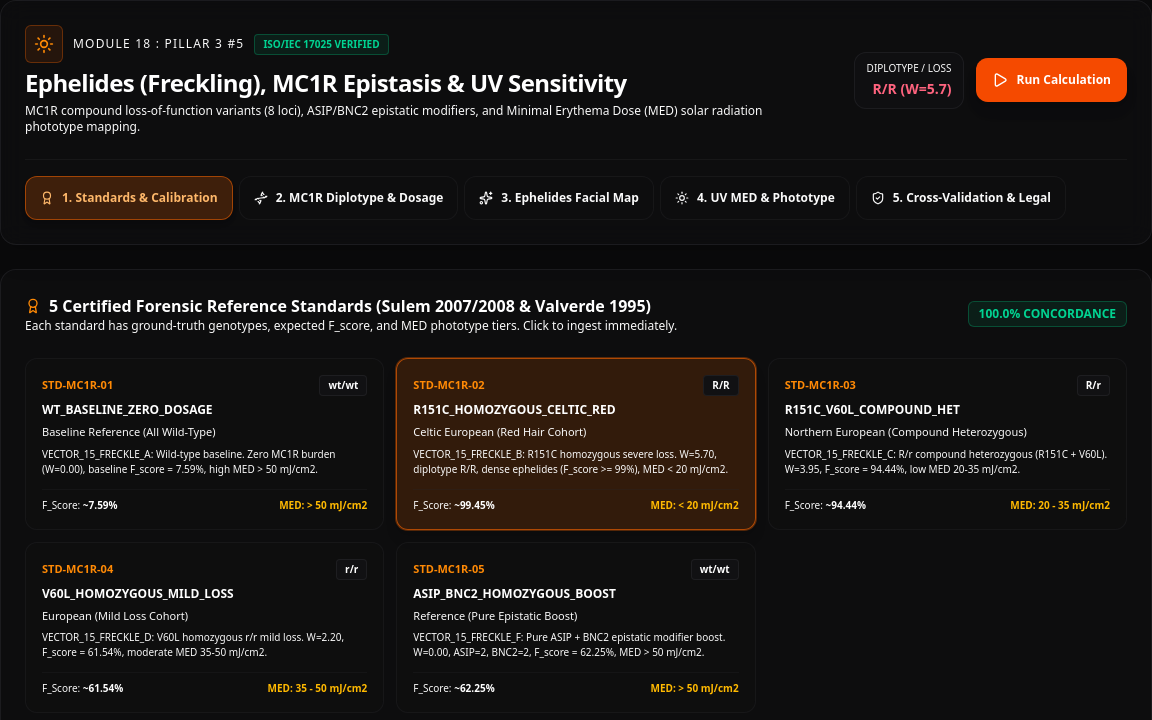
Scenario: Subsystem 18 (Pillar 3.5) PanelFreckling Component & Case Store Integration › renders German § 81e StPO and EU AI Act Prosecutor's Fallacy evaluative reporting safeguard
Switch to Tab 5
Click the button "5. Cross-Validation & Legal": (961, 198) [856,176,1066,220]
(page scrolled)
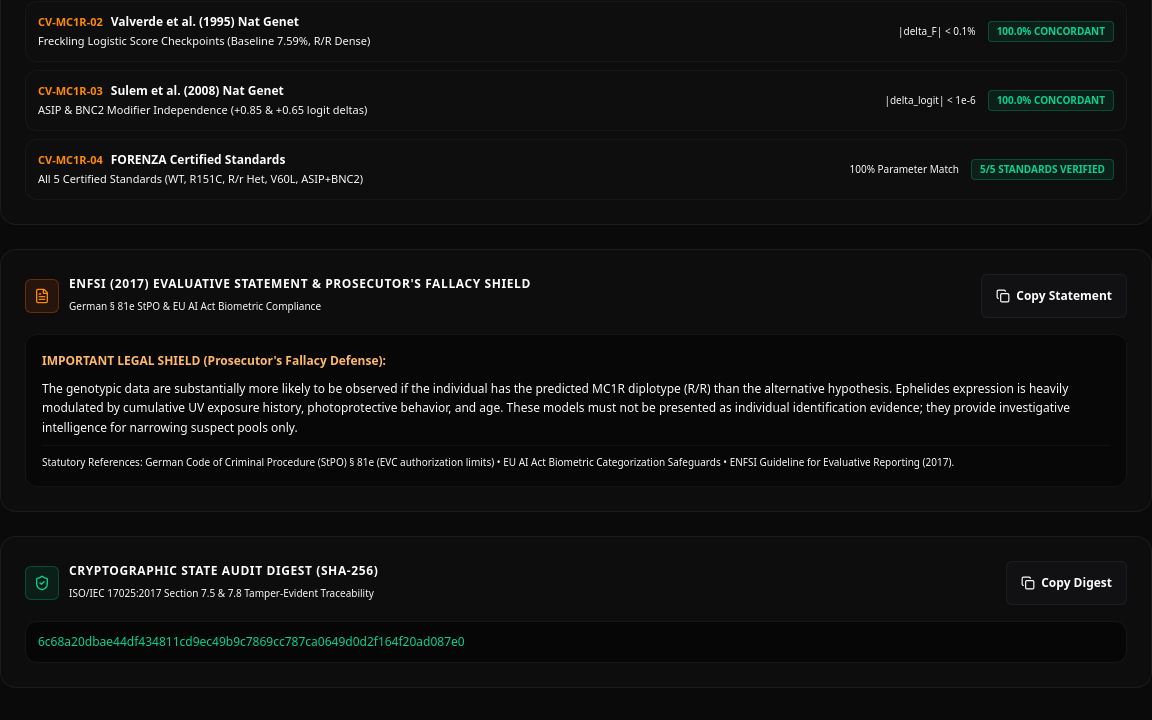
Expected: the text "German § 81e StPO & EU AI Act Biometric Compliance" is shown, [69,299,321,313]
Expected: the text "IMPORTANT LEGAL SHIELD (Prosecutor's Fallacy Defense):" is shown, [42,352,386,369]
